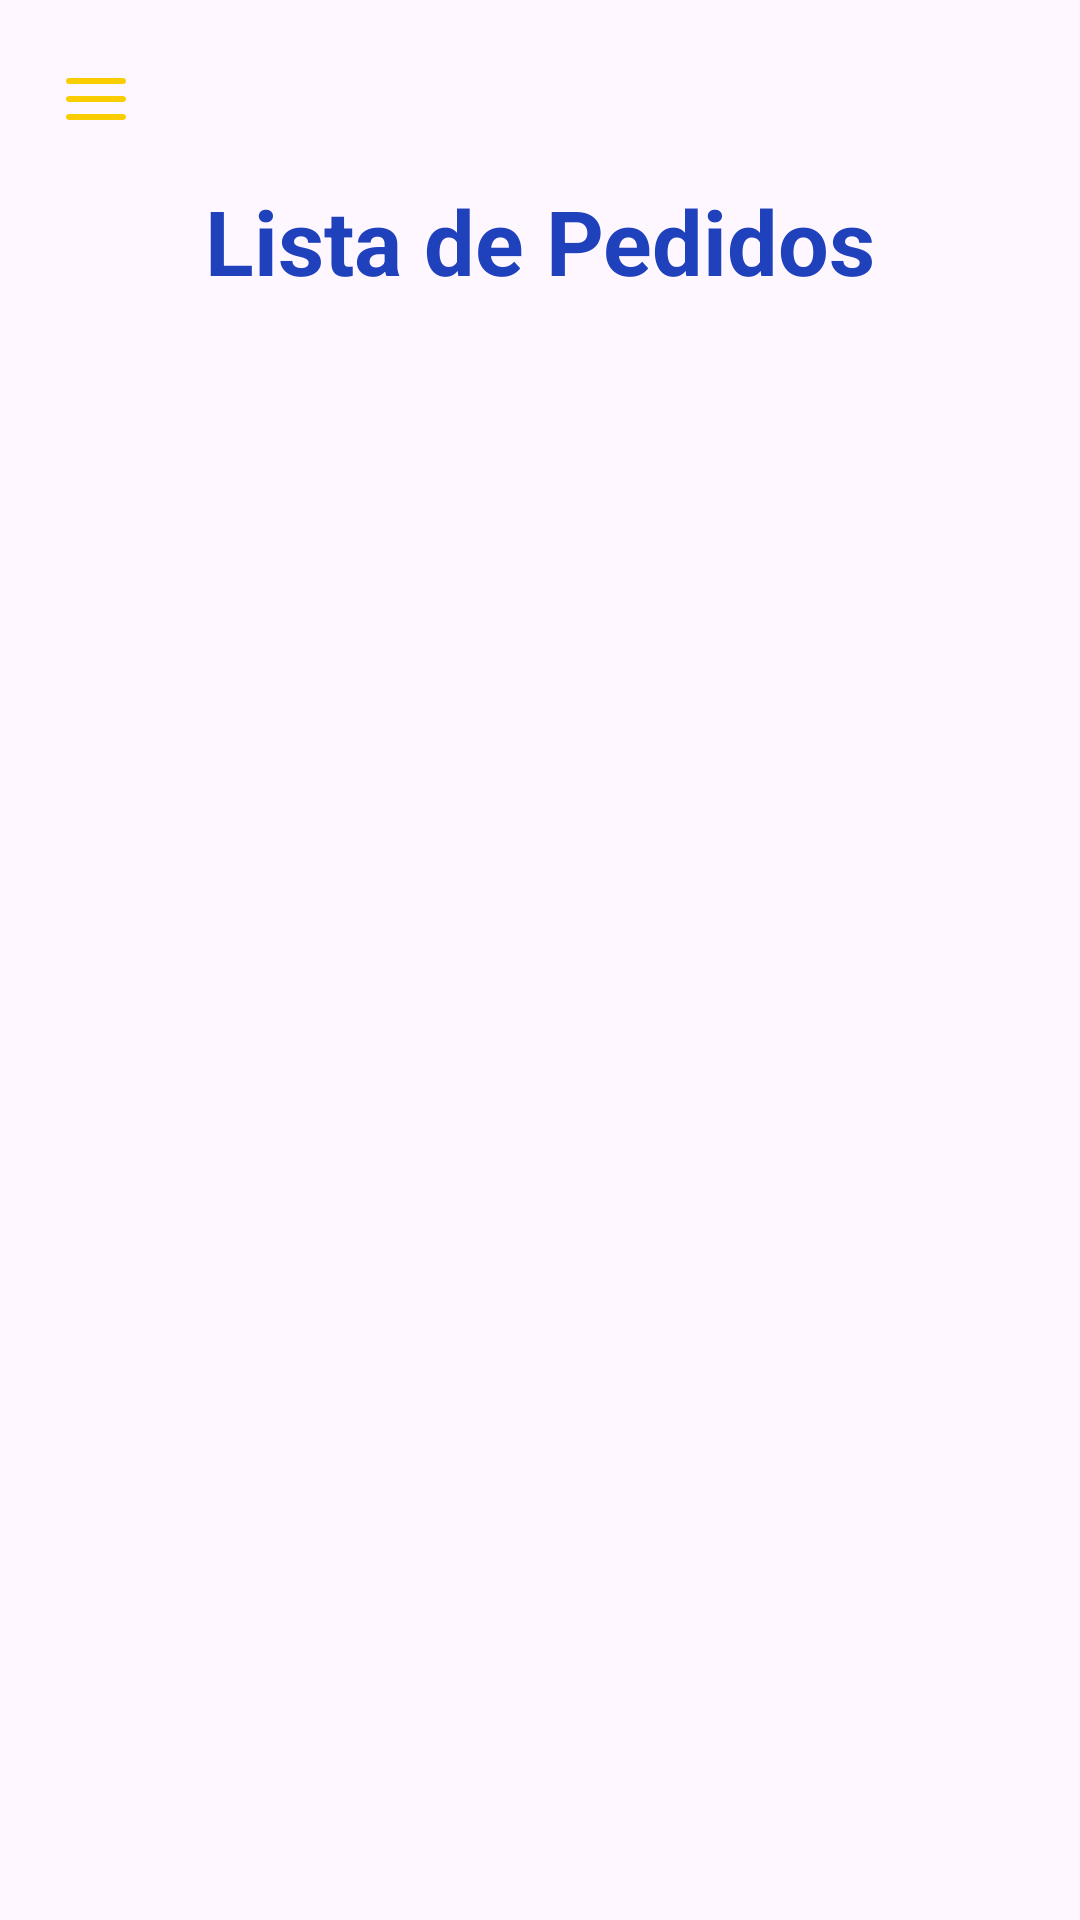

Icon bounding boxes for this 1080px x 1920px phone screenshot, format detection(x1, y1, x2, y2):
hamburguer: detection(66, 78, 126, 120)
